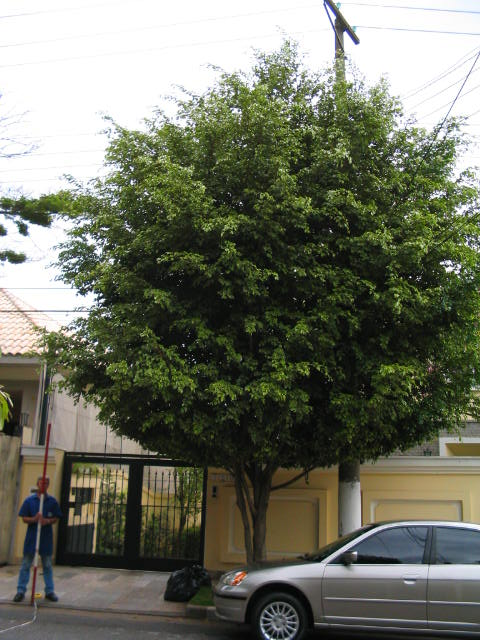crown: (21, 26, 475, 493)
stem: (231, 490, 275, 600)
stick: (24, 423, 52, 605)
tree: (20, 24, 477, 600)
